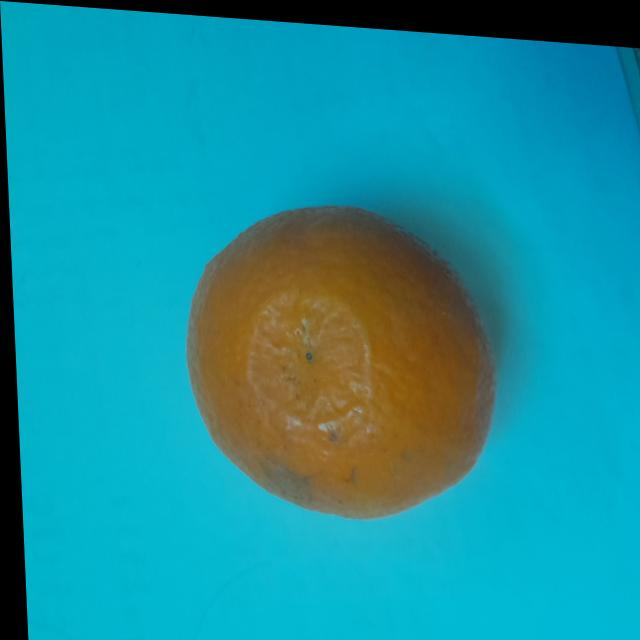Cam: (160, 168, 506, 535)
